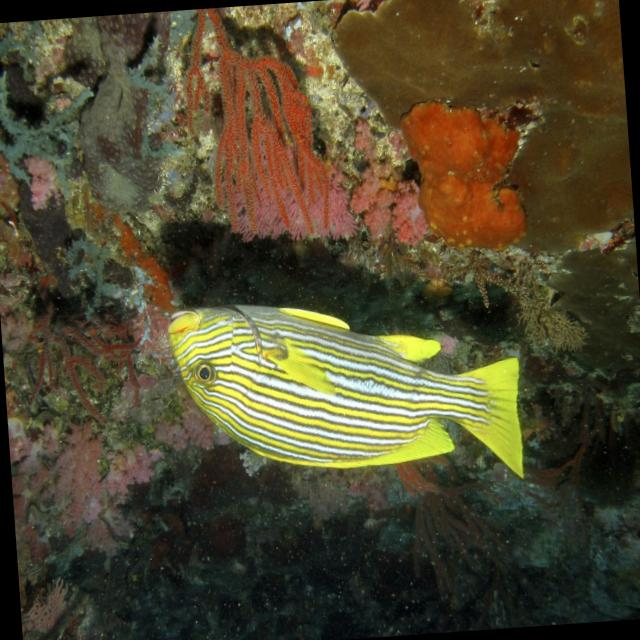RibbonedSweetlips: (163, 281, 528, 504)
